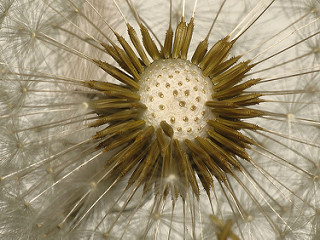dandelion: (3, 1, 319, 240)
